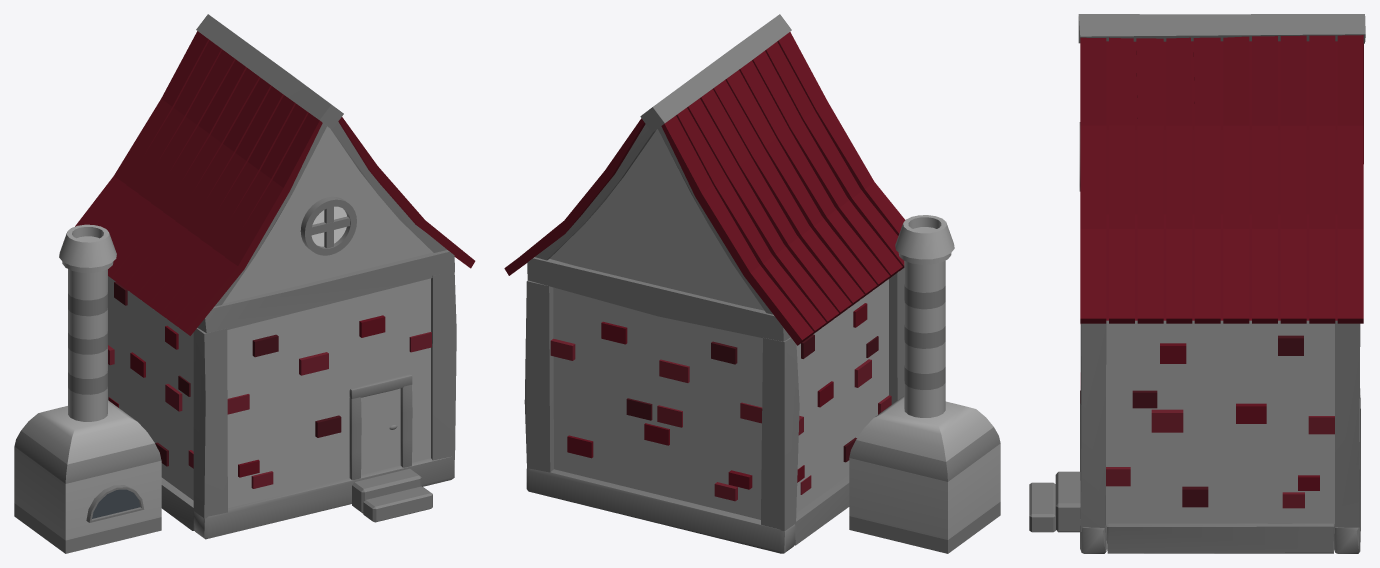
Rendered from Brickworks.fbx.
3 views of the same model, side by side, from view 1: azimuth 30°, elevation 25°; view 2: azimuth 150°, elevation 25°; view 3: azimuth 270°, elevation 25° (orthographic). The views are drawn at different scales.
Parts seen in each view (by area): view 1: Cube.018, WallFront, Cube.063, Plane.005, WallLeft, Cylinder.001, Cube.003, Cube, Cube.002, Cube.001, Cube.016, Door (+11 smaller); view 2: Cube.018, WallBack, Cube.063, Plane.006, WallLeft, Cylinder.001, Cube.006, Cube.007, Cube.004, Cube.005, Cube.016, Cube.017 (+4 smaller); view 3: Cube.017, WallRight, Plane.007, Cube.008, Cube.016, Cube.001, Cube.005, Cube.038, Cube.039, Cube.006, Cube.002, Cube.052 (+7 smaller).
Part boxes in pixels (x1,y1,x2,y2): Cube.018: (75, 31, 322, 335); WallFront: (227, 278, 430, 508); Cube.063: (14, 400, 161, 553); Plane.005: (223, 126, 432, 303); WallLeft: (108, 276, 193, 500); Cylinder.001: (59, 224, 116, 421); Cube.003: (197, 250, 454, 333); Cube: (193, 328, 227, 518); Cube.002: (194, 456, 454, 539); Cube.001: (431, 272, 456, 460); Cube.016: (196, 14, 343, 129); Door: (361, 388, 400, 475); Cube.018: (661, 32, 905, 345); WallBack: (553, 287, 762, 519); Cube.063: (849, 396, 1000, 553); Plane.006: (549, 129, 764, 310); WallLeft: (796, 279, 888, 513); Cylinder.001: (895, 215, 954, 417); Cube.006: (526, 468, 795, 553); Cube.007: (527, 257, 790, 341); Cube.004: (761, 337, 799, 531); Cube.005: (524, 280, 553, 472); Cube.016: (640, 14, 791, 132); Cube.017: (504, 118, 645, 275); Cube.017: (1080, 35, 1363, 323); WallRight: (1106, 320, 1334, 533); Plane.007: (1106, 41, 1337, 320); Cube.008: (1107, 523, 1333, 553); Cube.016: (1078, 14, 1365, 43); Cube.001: (1081, 323, 1106, 532); Cube.005: (1335, 320, 1359, 527); Cube.038: (1055, 471, 1080, 532); Cube.039: (1029, 482, 1055, 532); Cube.006: (1334, 388, 1360, 553); Cube.002: (1080, 390, 1106, 553); Cube.052: (1151, 409, 1183, 432).
Bounding box in the file's own units: 303 × 308 × 198.
